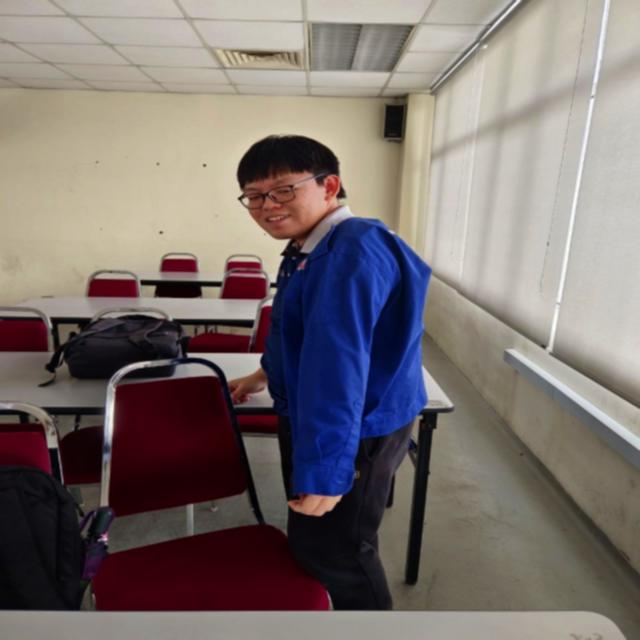person_without_labcoat: (229, 135, 430, 609)
